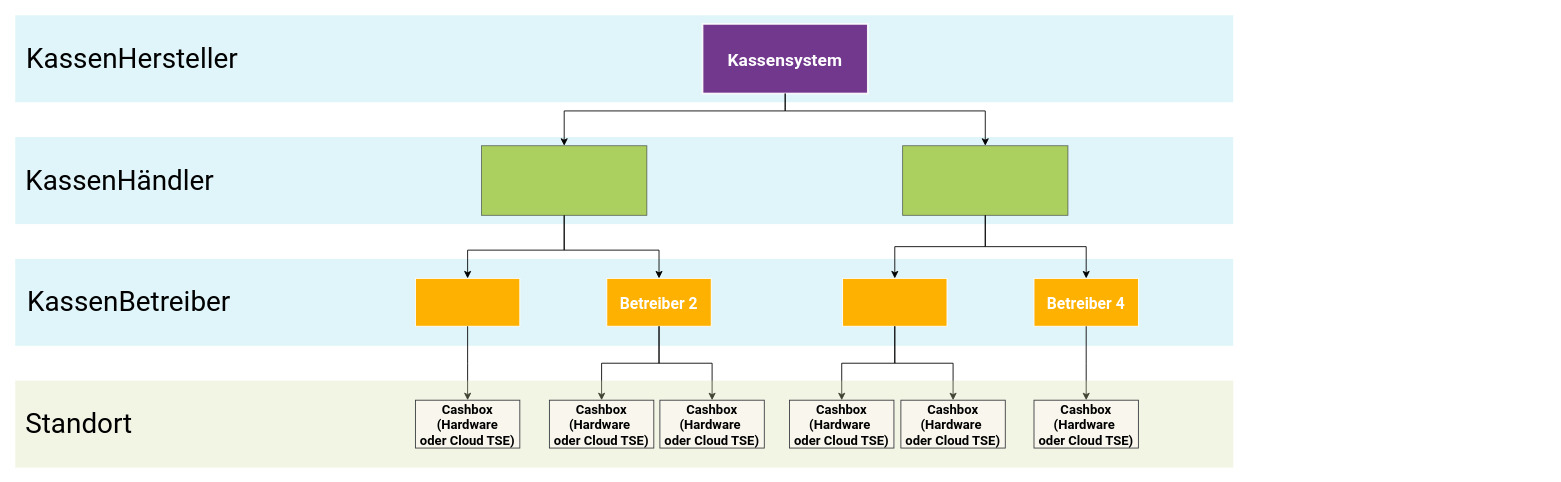
Some shapes in this 1561 by 482 pixel diagram are drawn without their labels. The box of each missing label's shape, as (x1, y1, x2, y2) in pixels:
Betreiber 1: (415, 278, 520, 326)
Betreiber 3: (842, 278, 947, 326)
Händler 1: (481, 145, 647, 215)
Händler 2: (902, 145, 1068, 215)
